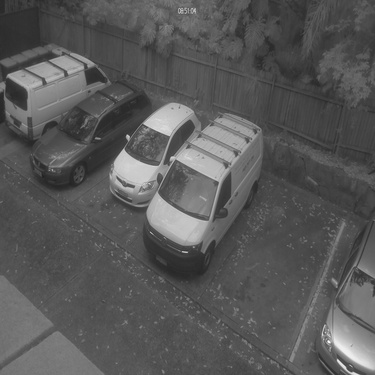car: (27, 77, 158, 191), (104, 96, 202, 215), (313, 210, 371, 372)
